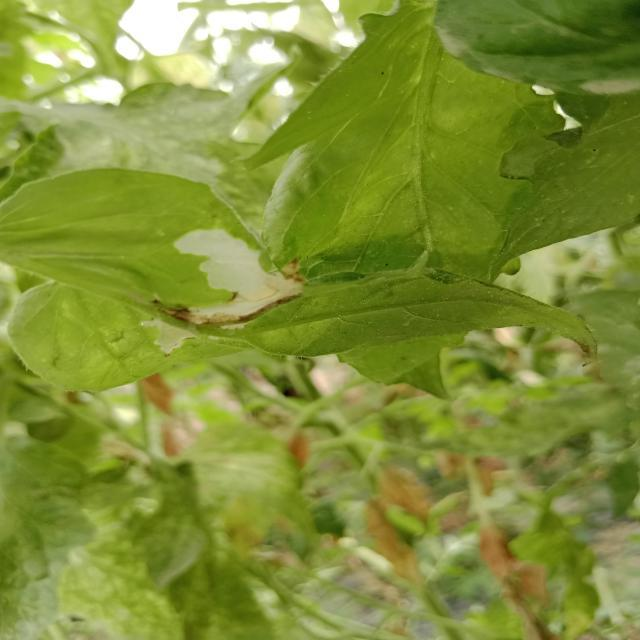Tuta absoluta: (160, 221, 313, 345), (142, 300, 199, 358)
